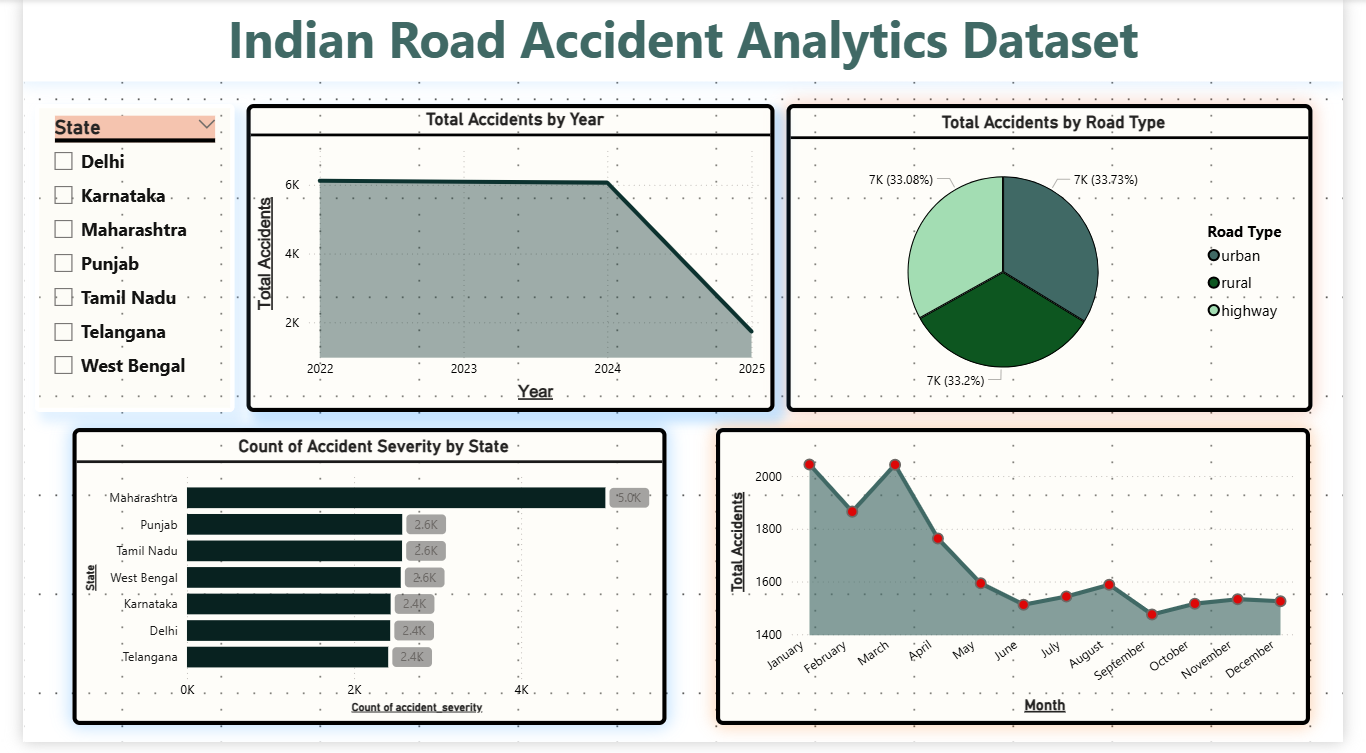

This screenshot's page, from the dashboard's own definition file:
{"tool":"powerbi","page":{"name":"Page 3","canvas":[1280,720],"ordinal":1},"visuals":[{"type":"textbox","box":[0,0,1280,80],"z":0},{"type":"pieChart","title":"Total Accidents by Road Type","fields":{"Category":["indian_roads_dataset.road_type"],"Y":["indian_roads_dataset.Total Accidents"]},"box":[740,101.7,510,298.3],"z":1000},{"type":"areaChart","fields":{"Category":["indian_roads_dataset.date.Variation.Date Hierarchy.Month"],"Y":["indian_roads_dataset.Total Accidents"]},"box":[672,416,576,288],"z":2000},{"type":"clusteredBarChart","title":"Count of Accident  Severity by State","fields":{"Category":["indian_roads_dataset.state"],"Y":["CountNonNull(indian_roads_dataset.accident_severity)"]},"box":[48,416,576,288],"z":3000},{"type":"lineChart","fields":{"Category":["indian_roads_dataset.date.Variation.Date Hierarchy.Year"],"Y":["indian_roads_dataset.Total Accidents"]},"box":[216.7,101.7,511.7,298.3],"z":4000},{"type":"slicer","fields":{"Values":["indian_roads_dataset.state"]},"box":[11.7,101.7,193.3,298.3],"z":5000}]}

Visuals, with their boxes in screenshot pixels (x1, y1, x2, y2), scaled from the page's 1280x720 canvas onto the 1366x753 screenshot:
textbox: x1=0 y1=0 x2=1365 y2=84
"Total Accidents by Road Type" pieChart: x1=790 y1=106 x2=1334 y2=418
areaChart - indian_roads_dataset.date.Variation.Date Hierarchy.Month x indian_roads_dataset.Total Accidents: x1=717 y1=435 x2=1332 y2=736
"Count of Accident  Severity by State" clusteredBarChart: x1=51 y1=435 x2=666 y2=736
lineChart - indian_roads_dataset.date.Variation.Date Hierarchy.Year x indian_roads_dataset.Total Accidents: x1=231 y1=106 x2=777 y2=418
slicer - indian_roads_dataset.state: x1=12 y1=106 x2=219 y2=418
